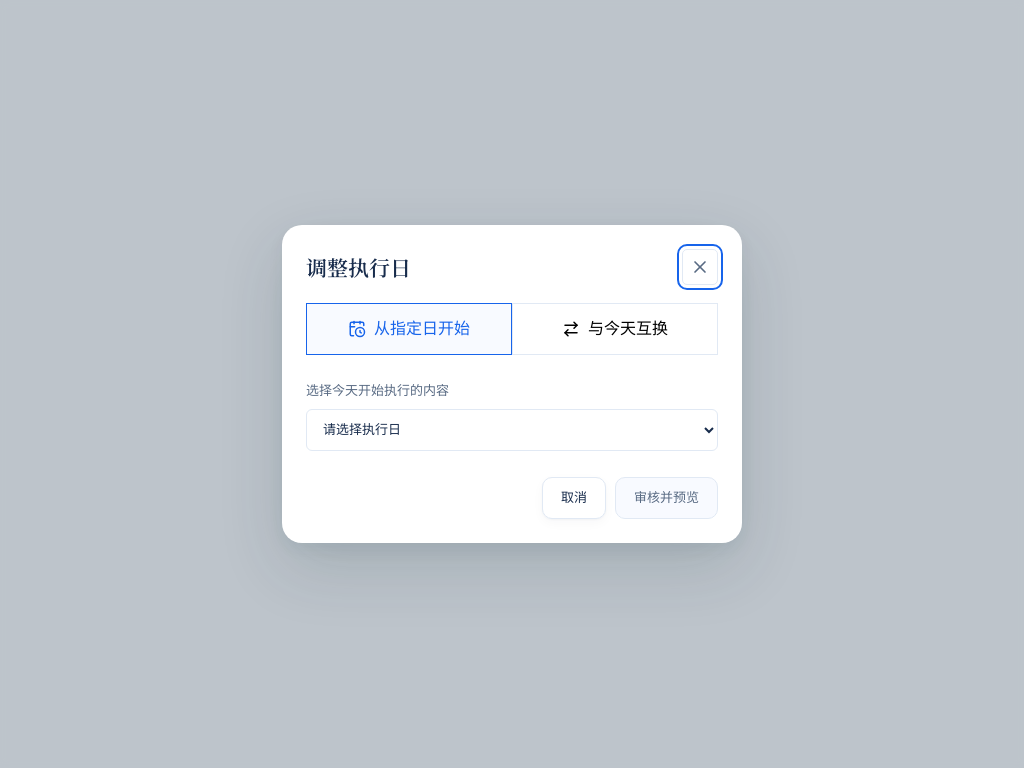
Test: shows stage-order warnings without disabling an otherwise valid move
Click the button "与今天互换": [615, 329] box [512,303,718,355]
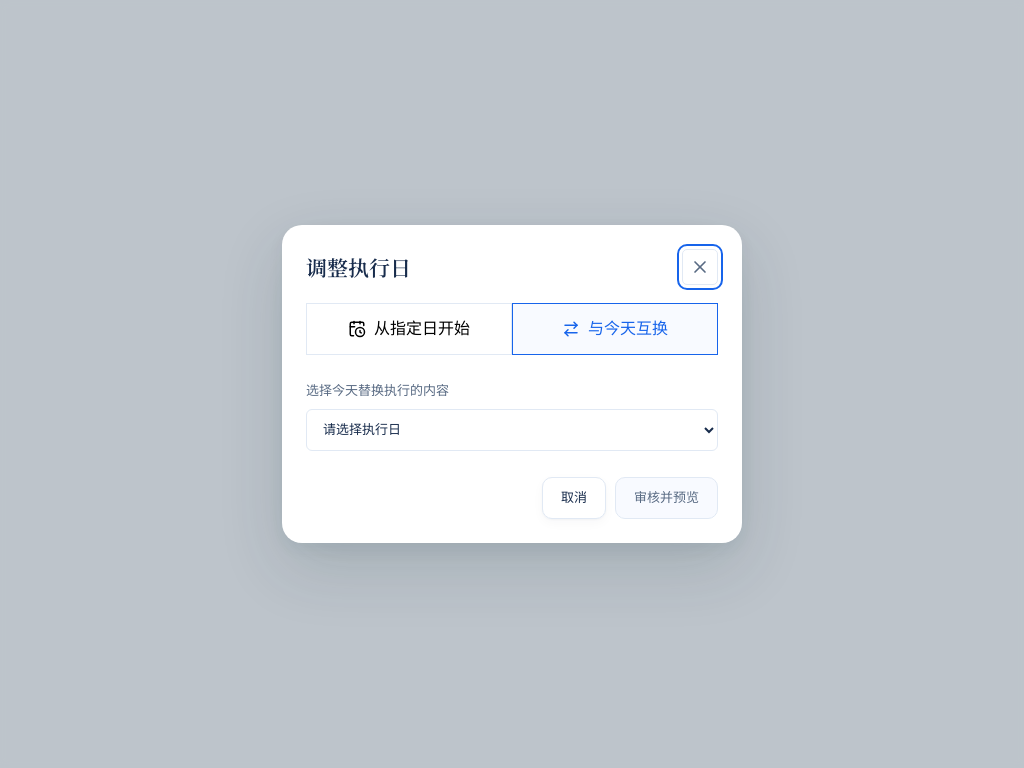
Select "2026-09-28 · M2-W2-D1 · 开始实践" in the dropdown named "选择执行日": [512, 430] box [306,409,718,451]
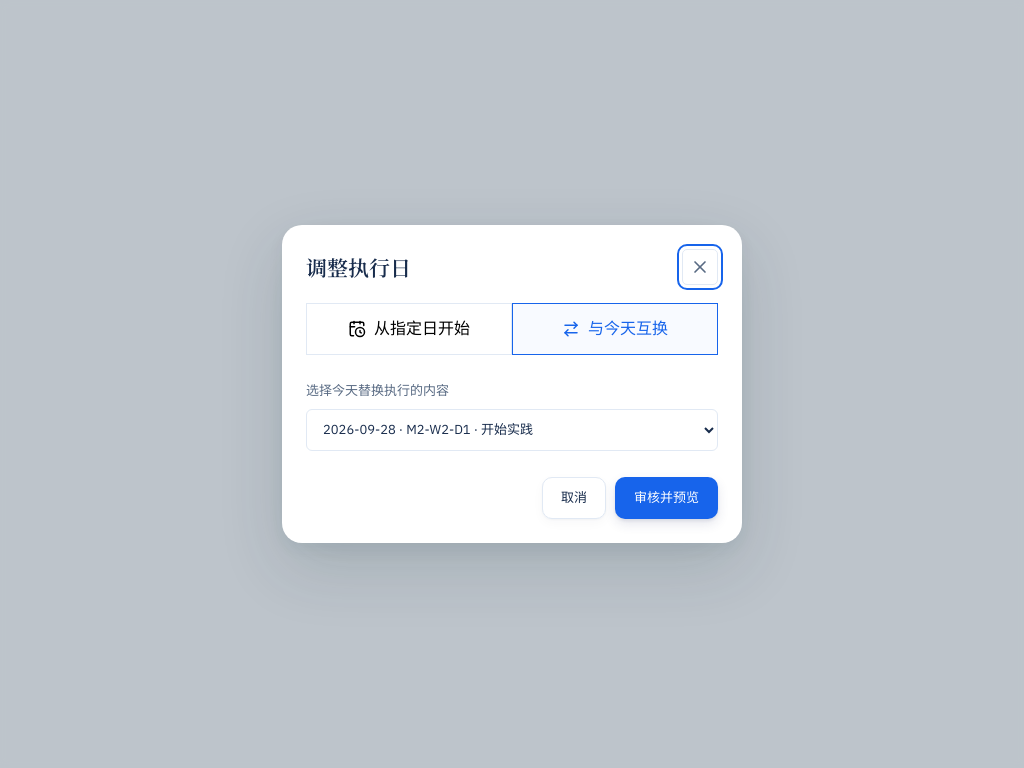
Click the button "审核并预览": [666, 498] box [615,477,718,519]
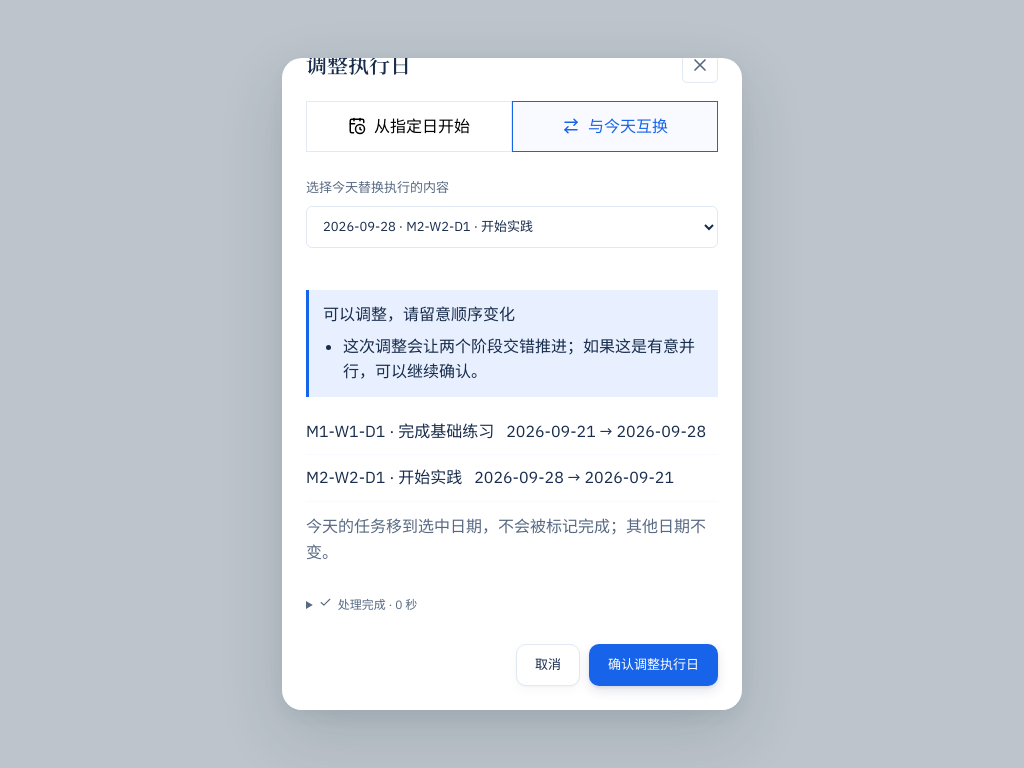
Expected: the button "确认调整执行日" is enabled, [589,644,718,686]
Expected: the text "可以调整，请留意顺序变化" is shown, [323,304,515,324]
Expected: the list item "这次调整会让两个阶段交错推进；如果这是有意并行，可以继续确认。" is shown, [343,334,704,385]
